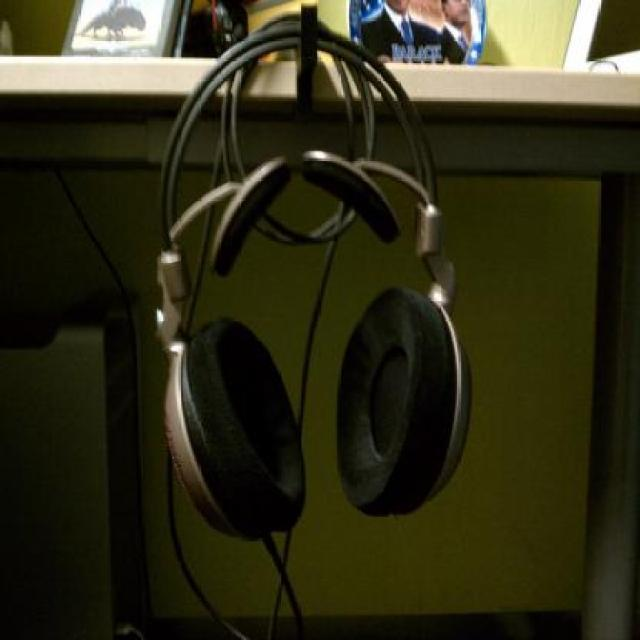earphone: (142, 8, 472, 550)
